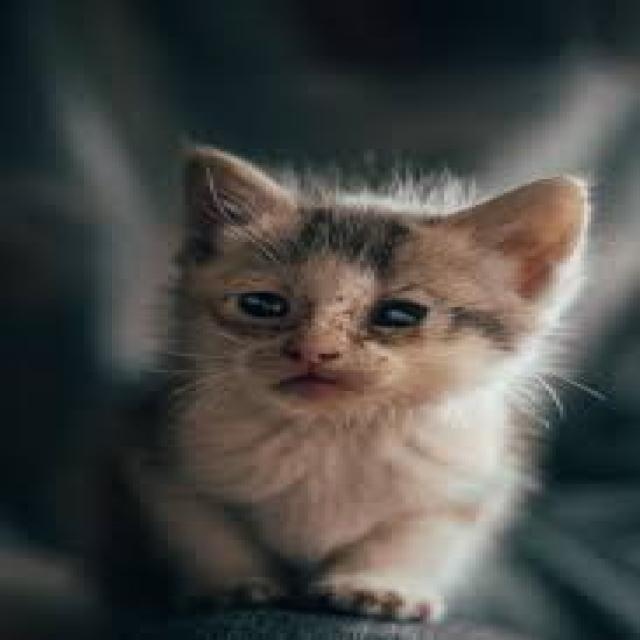cat: (113, 160, 602, 615)
